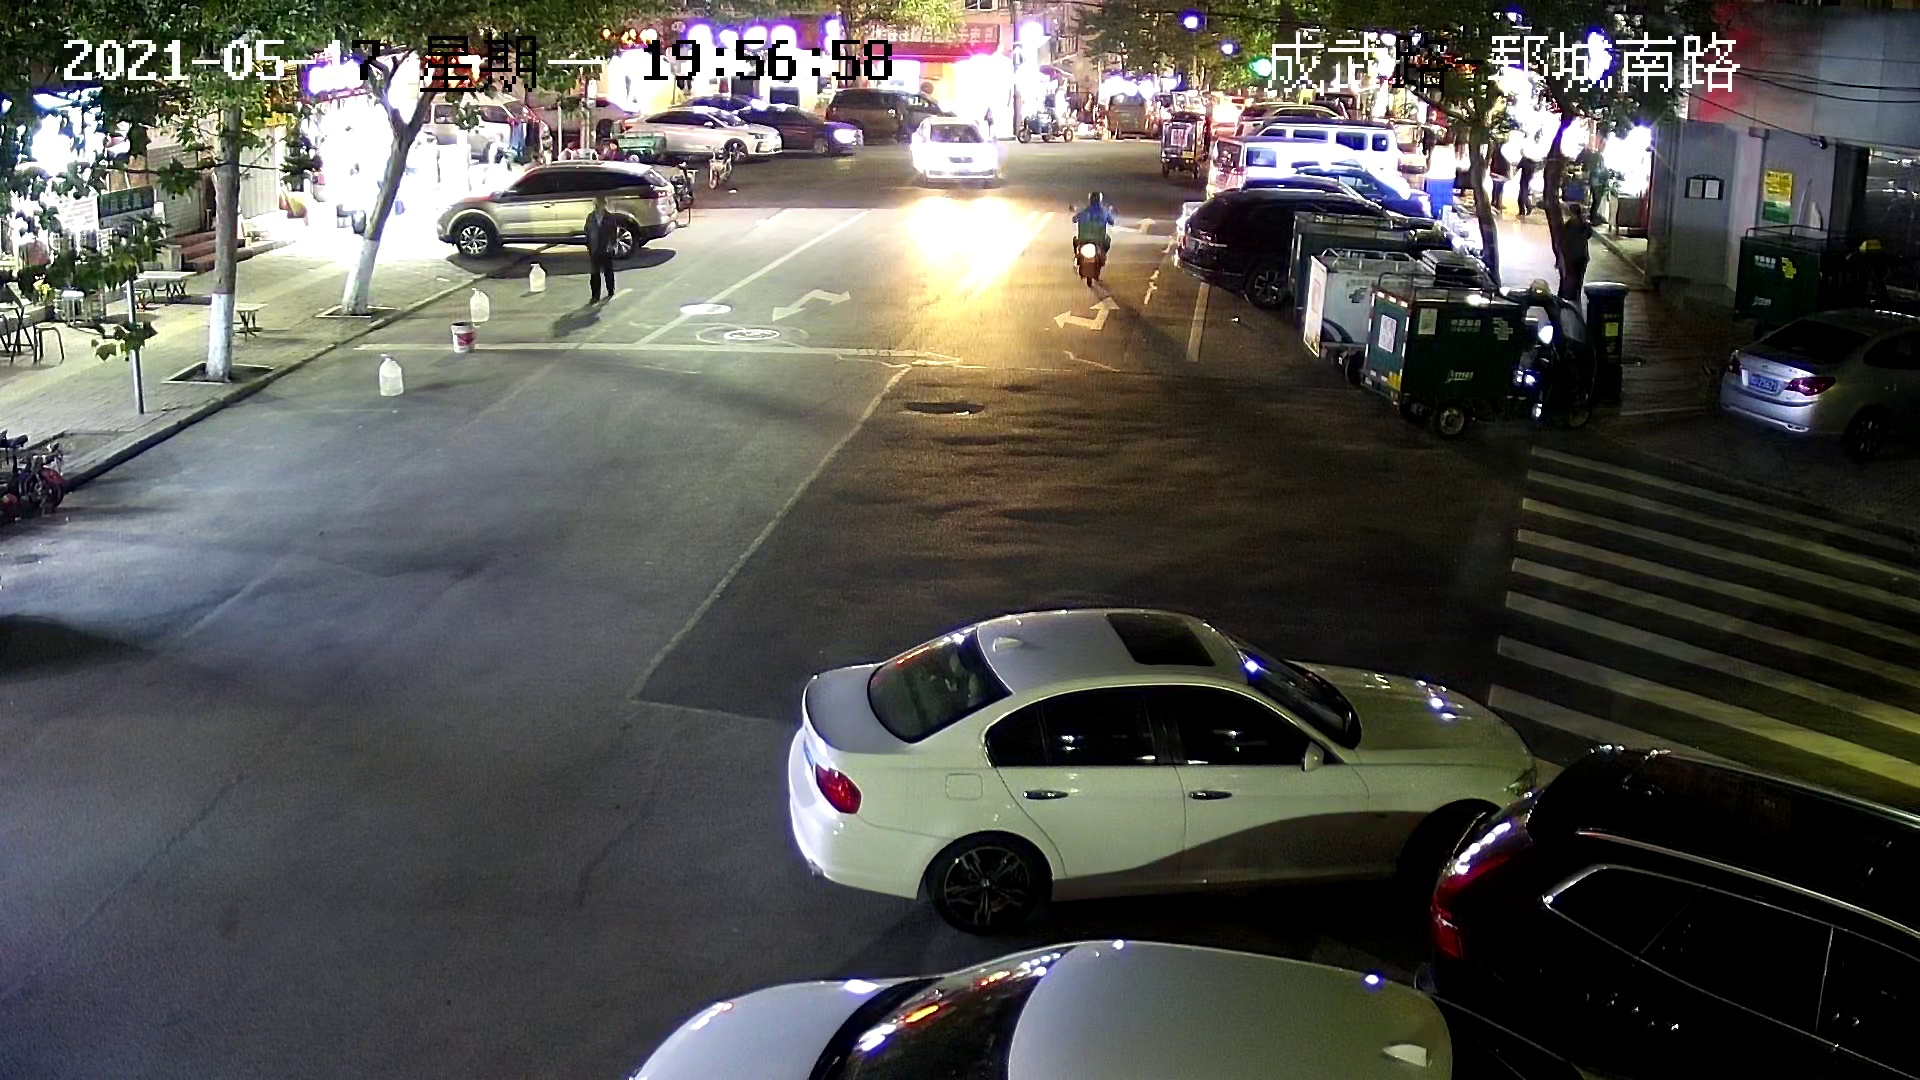chair: (32, 320, 65, 363), (5, 313, 34, 352), (123, 287, 148, 313), (164, 278, 191, 301), (237, 309, 262, 331)
table: (199, 302, 268, 342), (1, 298, 34, 365), (135, 270, 196, 306)
table_chair: (0, 297, 65, 367), (123, 269, 198, 313), (198, 301, 269, 343)
